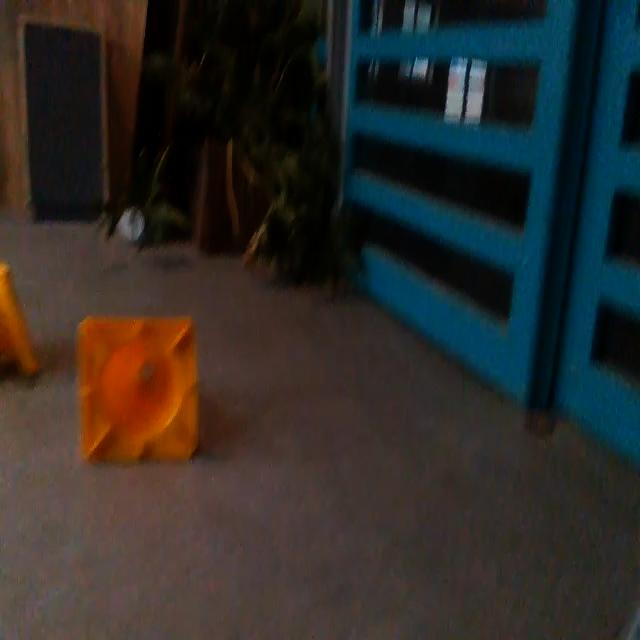cone: (75, 313, 200, 466), (0, 266, 41, 389)
